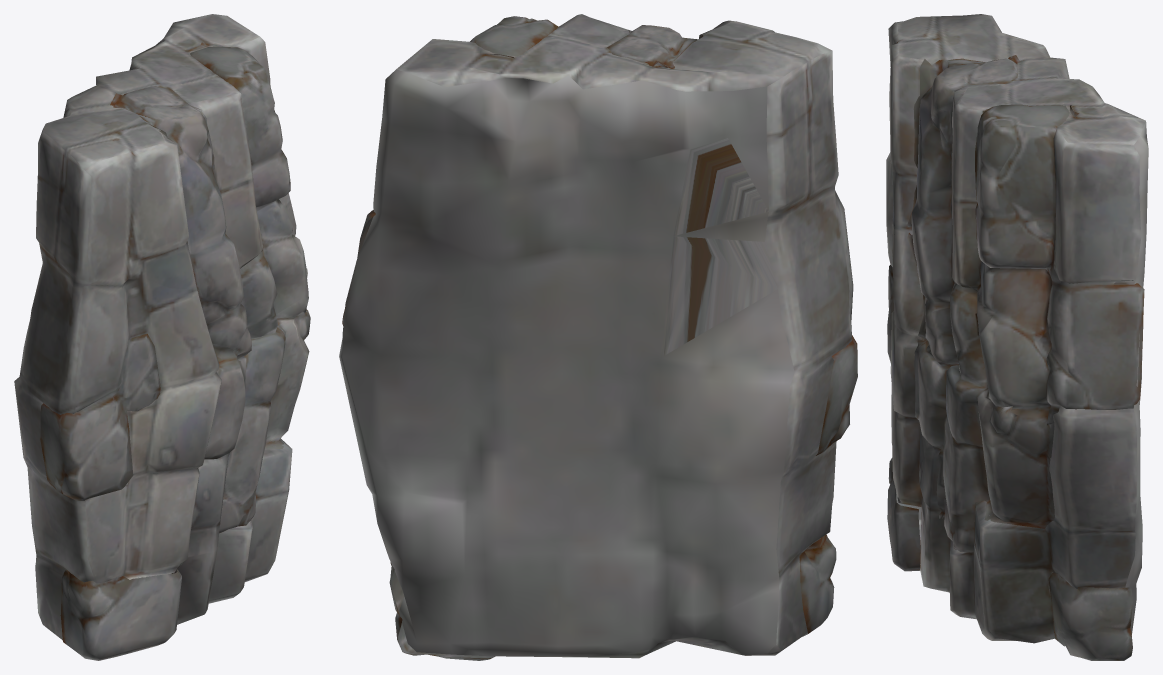
The model's file is Dn_HL_Stairs_Fine_4m_A_Dmg01.obj.
The picture shows the model from 3 angles, left to right: view 1: azimuth 30°, elevation 25°; view 2: azimuth 150°, elevation 25°; view 3: azimuth 270°, elevation 25°; orthographic projection. The views are drawn at different scales.
Visible parts, largest first — view 1: Dn_HL_Stairs_Fine_4m_A_Dmg01; view 2: Dn_HL_Stairs_Fine_4m_A_Dmg01; view 3: Dn_HL_Stairs_Fine_4m_A_Dmg01.
Boxes of the visible parts, bbox=[...] form: Dn_HL_Stairs_Fine_4m_A_Dmg01: bbox=[14, 14, 310, 660]; Dn_HL_Stairs_Fine_4m_A_Dmg01: bbox=[339, 14, 857, 660]; Dn_HL_Stairs_Fine_4m_A_Dmg01: bbox=[886, 14, 1148, 660].
Bounding box in the file's own units: 6.89 × 10.23 × 4.64.
